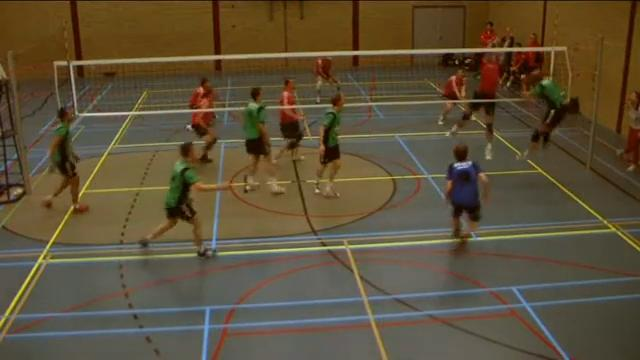attacco: (511, 64, 573, 166)
muro: (444, 36, 514, 164)
